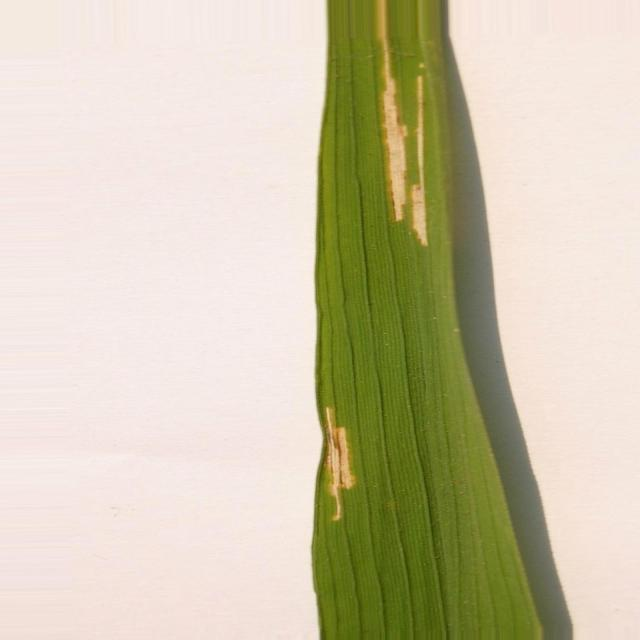Bacterial_Leaf_Blight: (380, 35, 429, 246), (324, 406, 356, 521)
